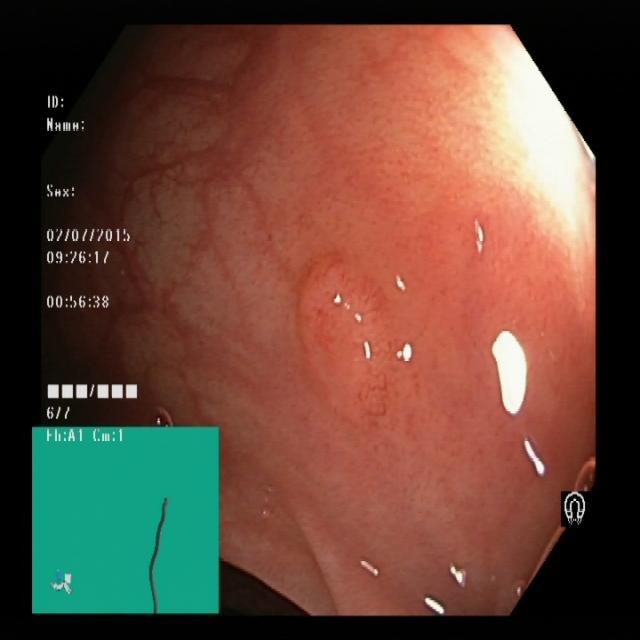Polyps: (288, 239, 404, 434)
